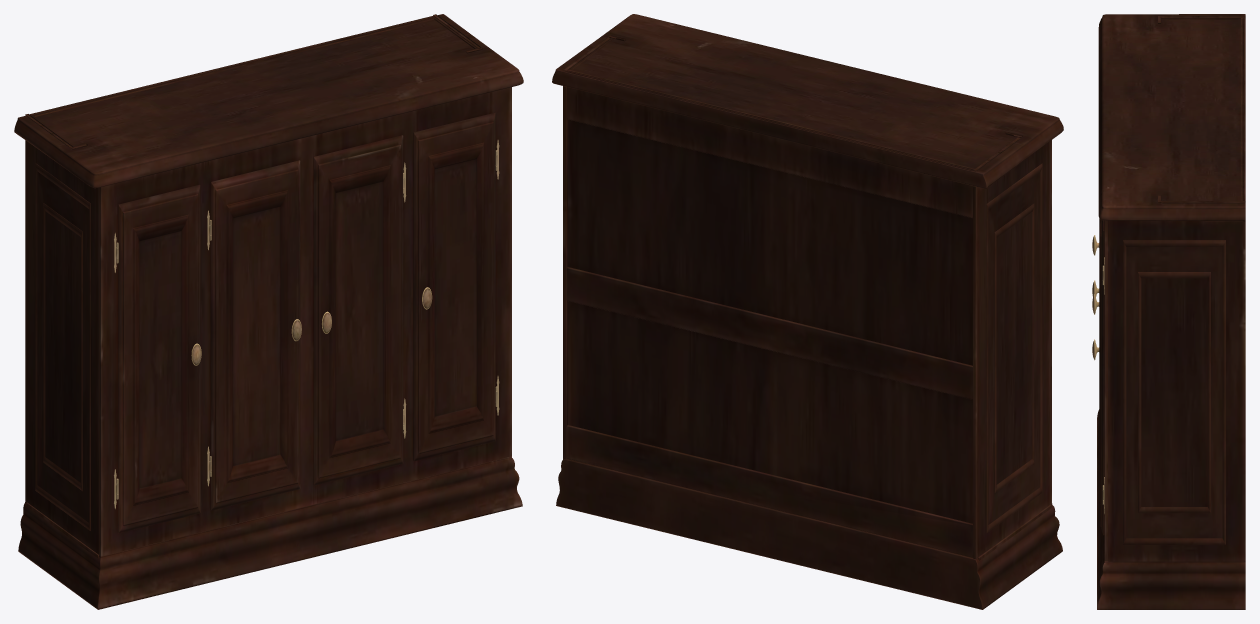
The model's file is hutch_base.glb.
3 views of the same model, side by side, from view 1: azimuth 30°, elevation 25°; view 2: azimuth 150°, elevation 25°; view 3: azimuth 270°, elevation 25° (orthographic). The views are drawn at different scales.
Parts seen in each view (by area): view 1: vintage_cabinet_01_body.002, vintage_cabinet_01_door_07.002, vintage_cabinet_01_door_06.002, vintage_cabinet_01_door_05.002, vintage_cabinet_01_door_02.002; view 2: vintage_cabinet_01_body.002; view 3: vintage_cabinet_01_body.002, vintage_cabinet_01_door_02.002.
Boxes of the visible parts, x1=… form: vintage_cabinet_01_body.002: x1=14, y1=14, x2=523, y2=609; vintage_cabinet_01_door_07.002: x1=313, y1=135, x2=404, y2=485; vintage_cabinet_01_door_06.002: x1=210, y1=160, x2=301, y2=510; vintage_cabinet_01_door_05.002: x1=116, y1=184, x2=201, y2=533; vintage_cabinet_01_door_02.002: x1=413, y1=112, x2=497, y2=461; vintage_cabinet_01_body.002: x1=552, y1=14, x2=1063, y2=609; vintage_cabinet_01_body.002: x1=1097, y1=14, x2=1245, y2=609; vintage_cabinet_01_door_02.002: x1=1092, y1=220, x2=1104, y2=535.
Bounding box in the file's own units: 39.8 × 38.3 × 13.16.
2 materials, 2 textured.
